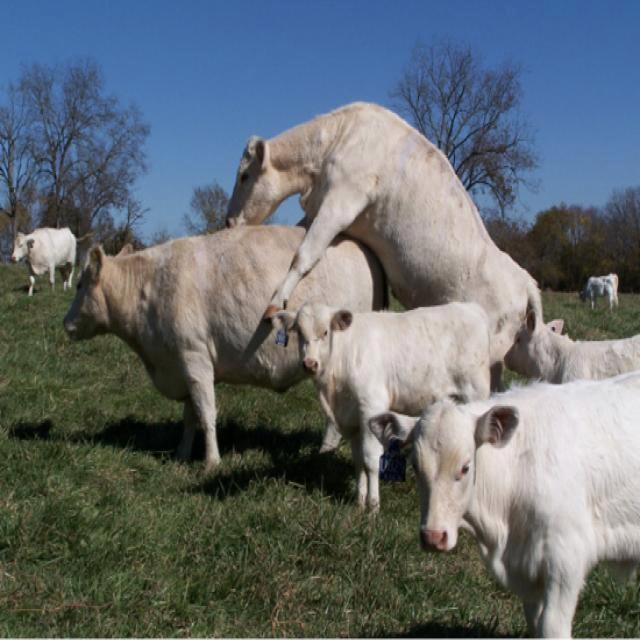cow: (228, 102, 541, 363), (371, 371, 640, 638), (64, 226, 305, 468), (286, 302, 490, 512), (290, 240, 386, 311)
